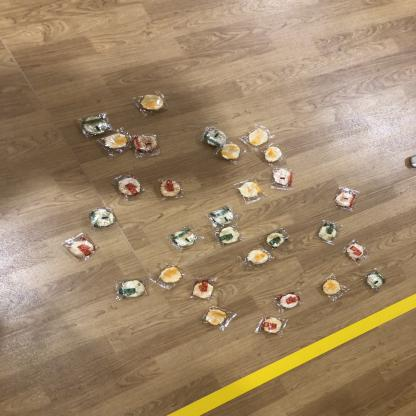green_setoshio: (115, 277, 148, 302), (169, 225, 200, 250), (314, 220, 343, 245), (88, 207, 117, 229), (208, 205, 237, 227), (261, 228, 290, 249), (80, 114, 110, 134), (363, 269, 387, 292), (216, 226, 243, 246), (202, 127, 226, 146)
red_setoshio: (64, 236, 97, 260), (116, 176, 146, 199), (132, 134, 160, 156), (257, 316, 287, 336), (191, 278, 217, 300), (333, 188, 358, 210), (344, 242, 369, 262), (272, 168, 295, 189), (160, 180, 184, 200), (278, 292, 301, 312)
yellow_setoshio: (318, 274, 348, 299), (155, 264, 186, 288), (100, 132, 132, 155), (235, 180, 267, 203), (136, 92, 167, 114), (202, 306, 232, 328), (244, 125, 272, 148), (243, 248, 272, 268), (263, 144, 286, 164), (220, 143, 242, 163)
